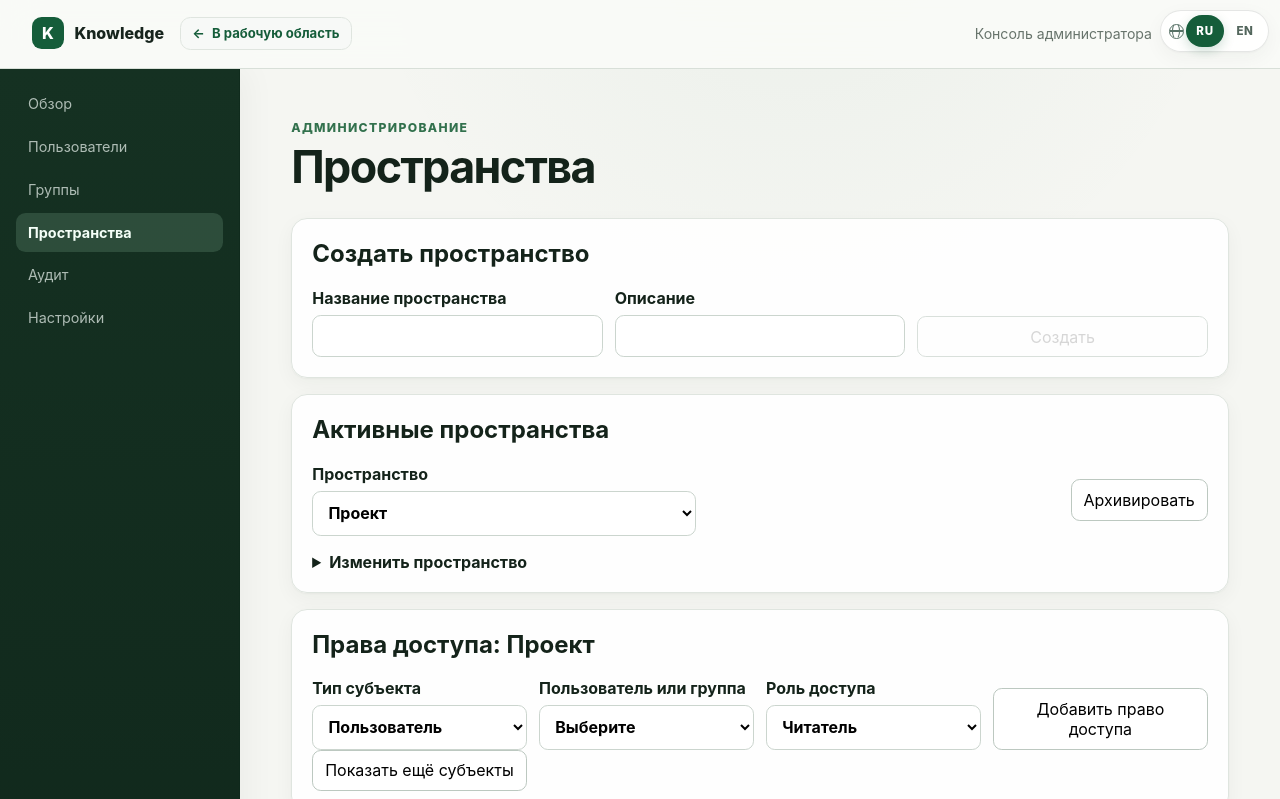
spaces administration › loads additional subjects and archived spaces from stable cursor pages
Click the button "Показать ещё субъекты". click: coordinates (419, 770)
box: [312,750,527,791]
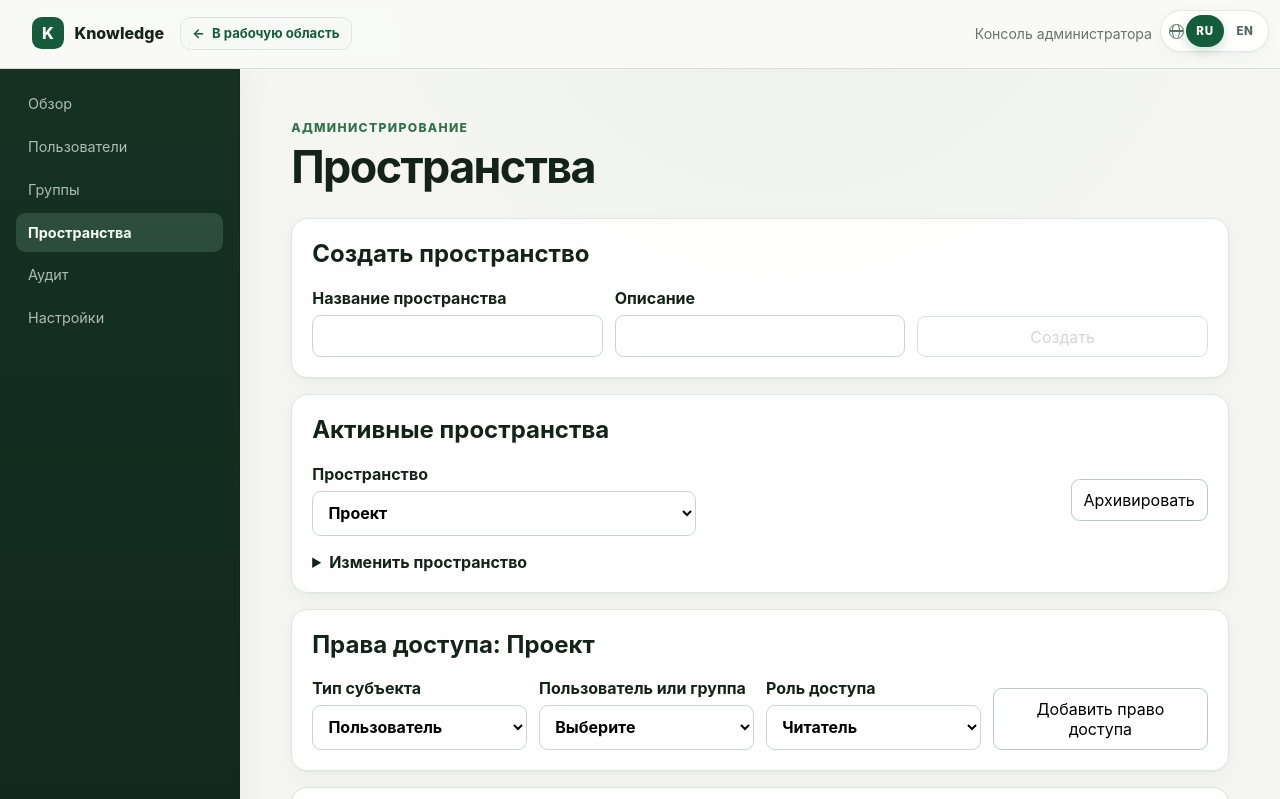
Select "Группа" in the dropdown labelled "Тип субъекта". click: coordinates (420, 727)
box: [312,705,527,750]
(page scrolled)
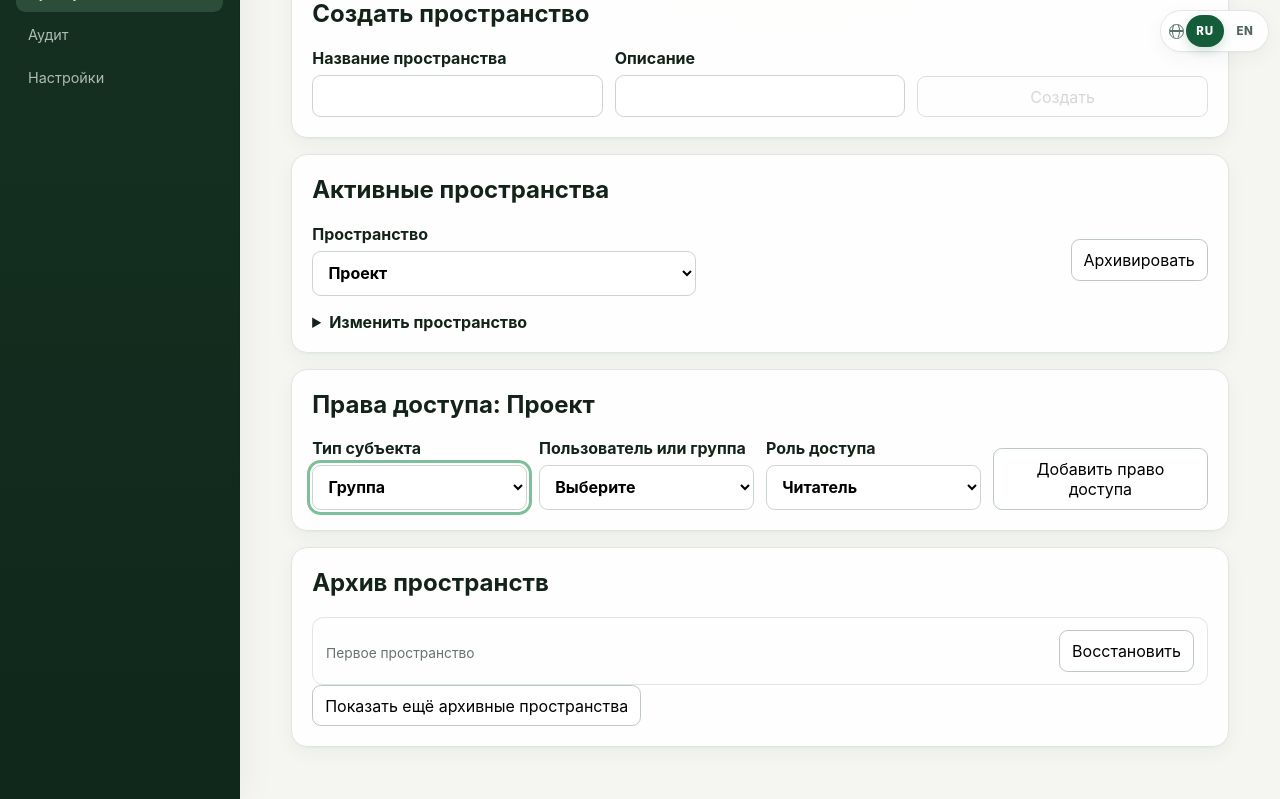
Click the button "Показать ещё архивные пространства". click: coordinates (477, 706)
box: [312,685,641,726]
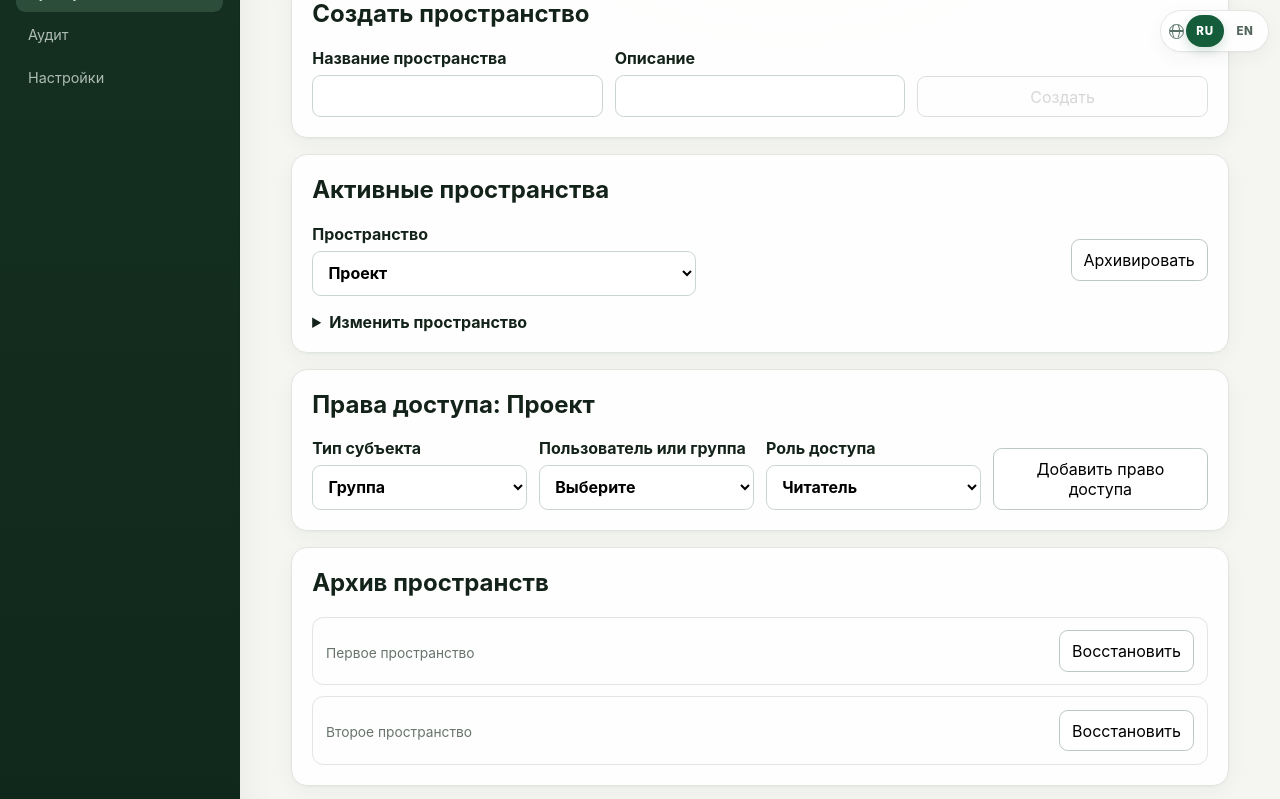
expect the text "Второе пространство" is shown: met, box [326,724,472,740]
